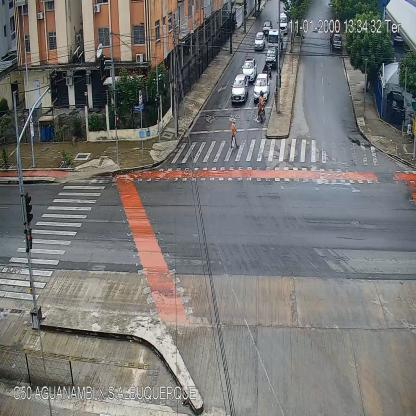car: (230, 73, 248, 102), (253, 74, 270, 100), (242, 57, 256, 82), (254, 31, 265, 51), (265, 48, 276, 66), (278, 13, 287, 34), (262, 19, 272, 32), (333, 34, 341, 46)
motorbike: (258, 89, 266, 123), (262, 64, 272, 80)
person: (231, 120, 238, 148), (274, 89, 278, 112), (330, 33, 333, 51), (235, 22, 238, 36)
truck: (268, 30, 284, 51)
